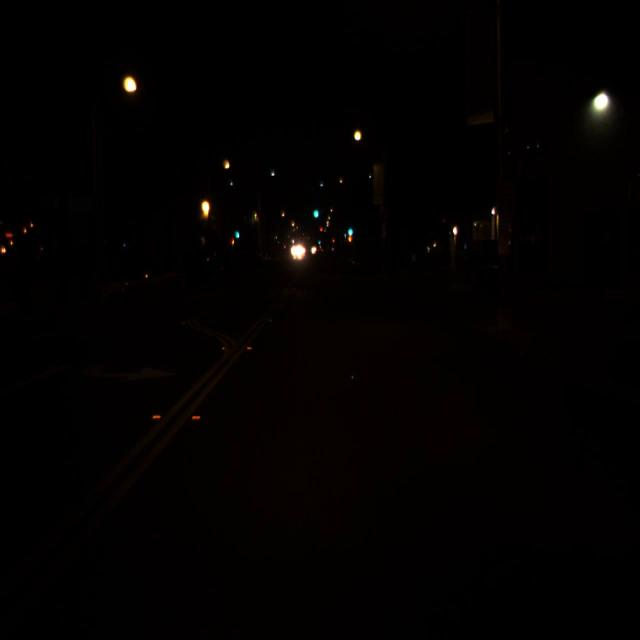go: (312, 202, 319, 220), (347, 223, 353, 236), (235, 226, 239, 240), (317, 238, 321, 245)
go traffic light: (312, 202, 319, 220), (347, 223, 353, 236), (235, 226, 239, 240), (317, 238, 321, 245)
